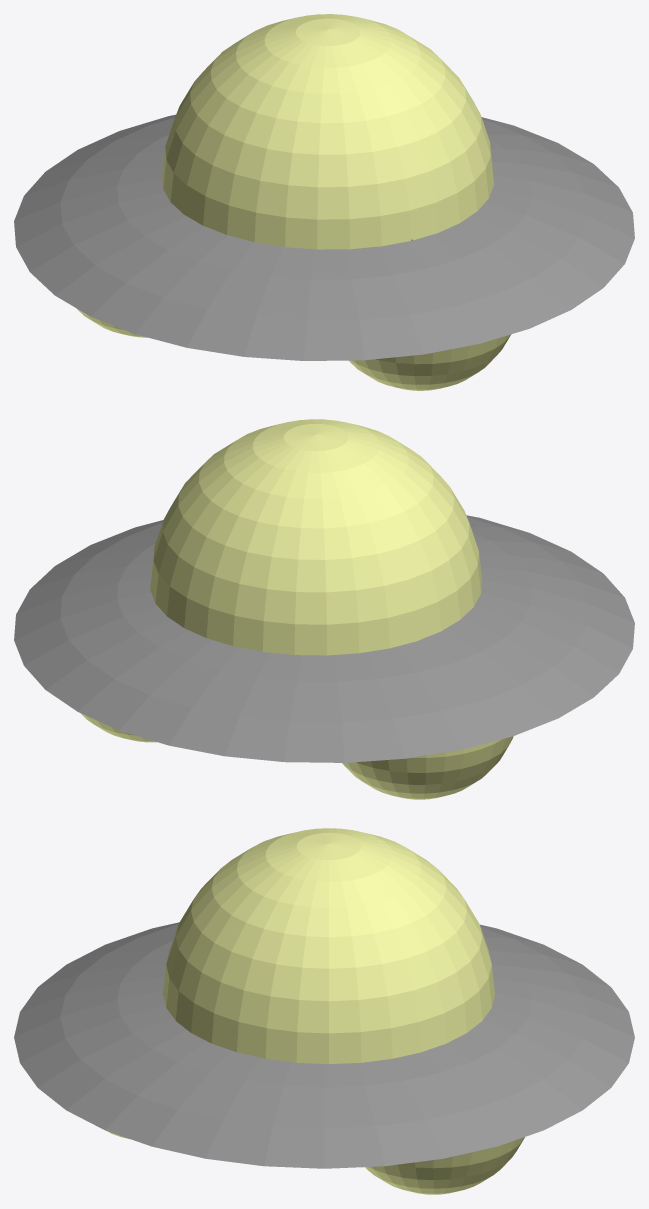
Rendered from Player.obj.
3 renders of one model, top to bottom at view 1: azimuth 30°, elevation 25°; view 2: azimuth 150°, elevation 25°; view 3: azimuth 270°, elevation 25°, orthographic.
Visible parts, largest first — view 1: 球.004; view 2: 球.004; view 3: 球.004.
Part boxes in pixels (left/top/right/bottom): 球.004: left=14, top=14, right=634, bottom=390; 球.004: left=14, top=419, right=634, bottom=799; 球.004: left=14, top=828, right=634, bottom=1194.
Size of the model in its own units: 1.66 by 0.8623 by 1.66.
